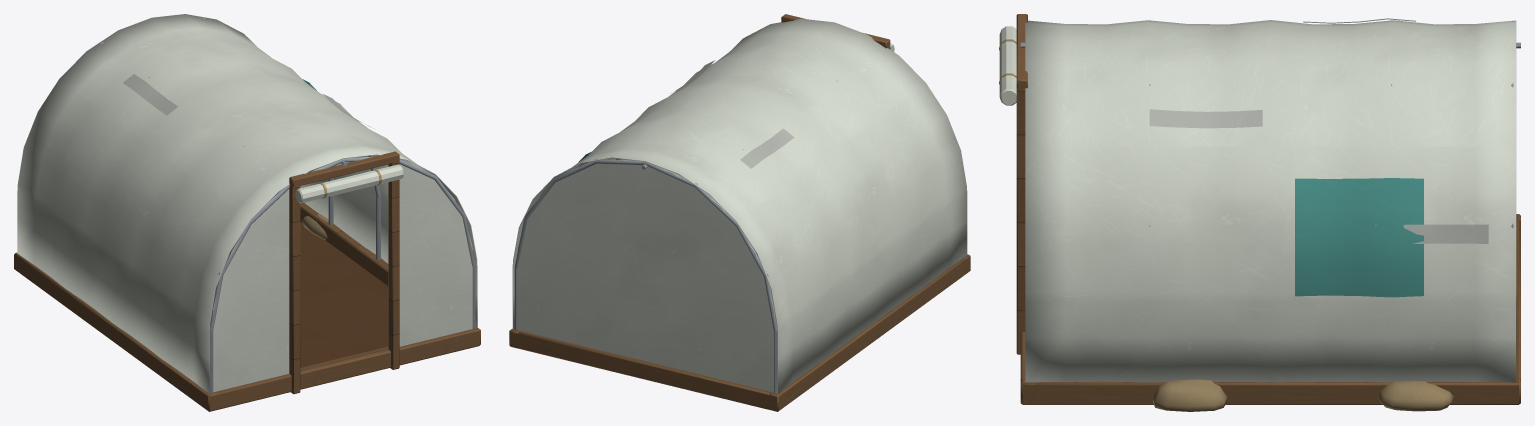
File: greenhouse_small.glb
The picture shows the model from 3 angles, left to right: view 1: azimuth 30°, elevation 25°; view 2: azimuth 150°, elevation 25°; view 3: azimuth 270°, elevation 25°; orthographic projection. The views are drawn at different scales.
Parts seen in each view (by area): view 1: greenhouse_small; view 2: greenhouse_small; view 3: greenhouse_small.
Boxes of the visible parts, x1,y1,x2,y2 form: greenhouse_small: (14,14,480,411); greenhouse_small: (509,14,970,411); greenhouse_small: (999,14,1520,411).
Size of the model in its own units: 2.65 by 1.94 by 3.23.
Materials: 13 (13 with a texture image).
